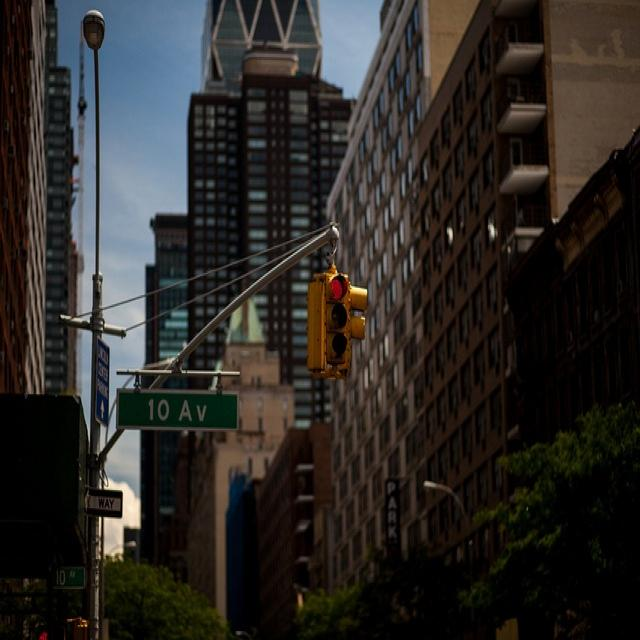pole: (83, 270, 106, 638)
